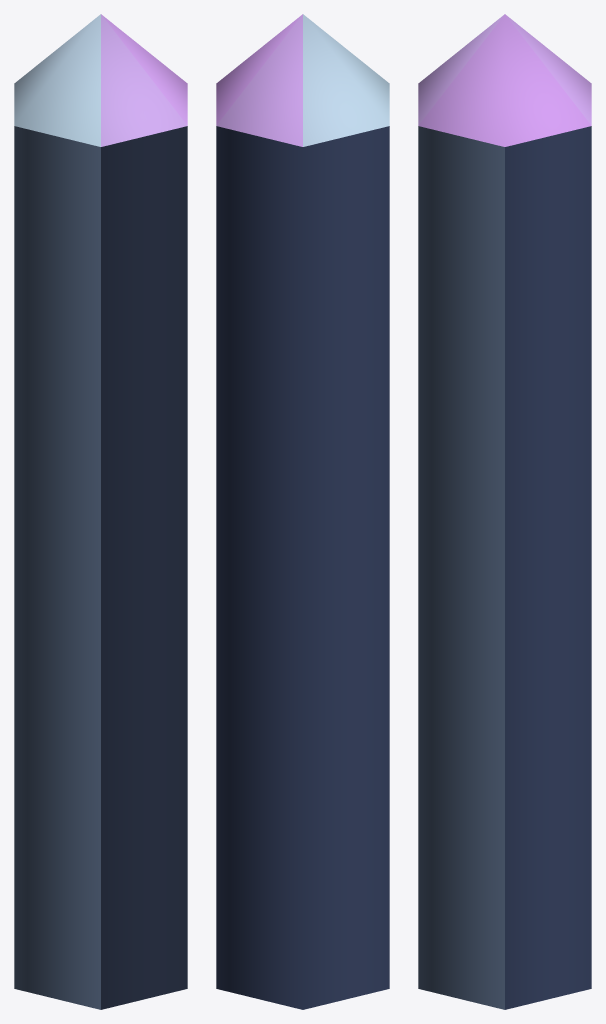
File: Solo.RocketMesh.SilverClaw.glb
3 views of the same model, side by side, from view 1: azimuth 30°, elevation 25°; view 2: azimuth 150°, elevation 25°; view 3: azimuth 270°, elevation 25° (orthographic).
Parts seen in each view (by area): view 1: Solo.RocketMesh.SilverClaw; view 2: Solo.RocketMesh.SilverClaw; view 3: Solo.RocketMesh.SilverClaw.
Part boxes in pixels (x1=…): Solo.RocketMesh.SilverClaw: x1=14, y1=14, x2=187, y2=1009; Solo.RocketMesh.SilverClaw: x1=216, y1=14, x2=389, y2=1009; Solo.RocketMesh.SilverClaw: x1=418, y1=14, x2=591, y2=1009.
Size of the model in its own units: 0.2 by 1.05 by 0.1732.
Materials: 1 (1 with a texture image).
